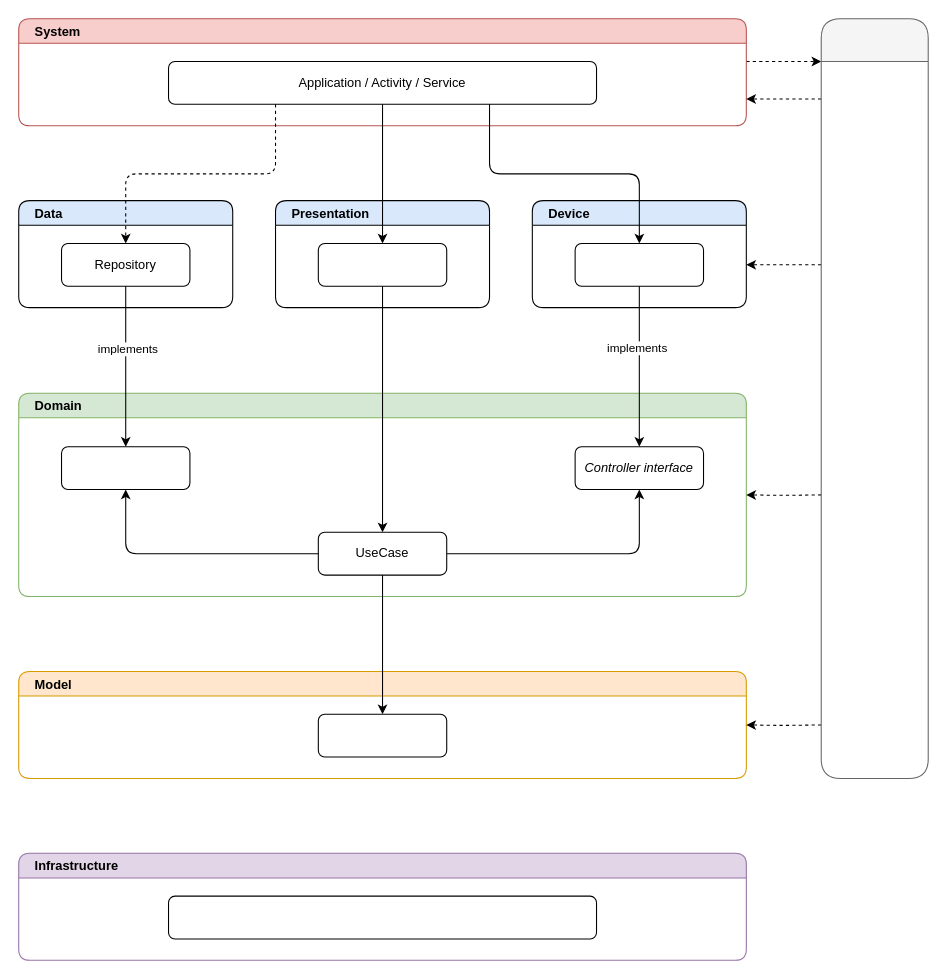
Some shapes in this 947 by 979 pixel diagram are drawn without their labels. Here are the shapes that lost their labels. From the top down, the centre of each, then its label:
At point 382,264: "ViewModel".
At point 639,264: "Controller".
At point 874,398: "Dependency Injection".
At point 125,468: "Repository interface".
At point 382,735: "Entity".
At point 382,917: "Universally available utils / extensions of the project".
